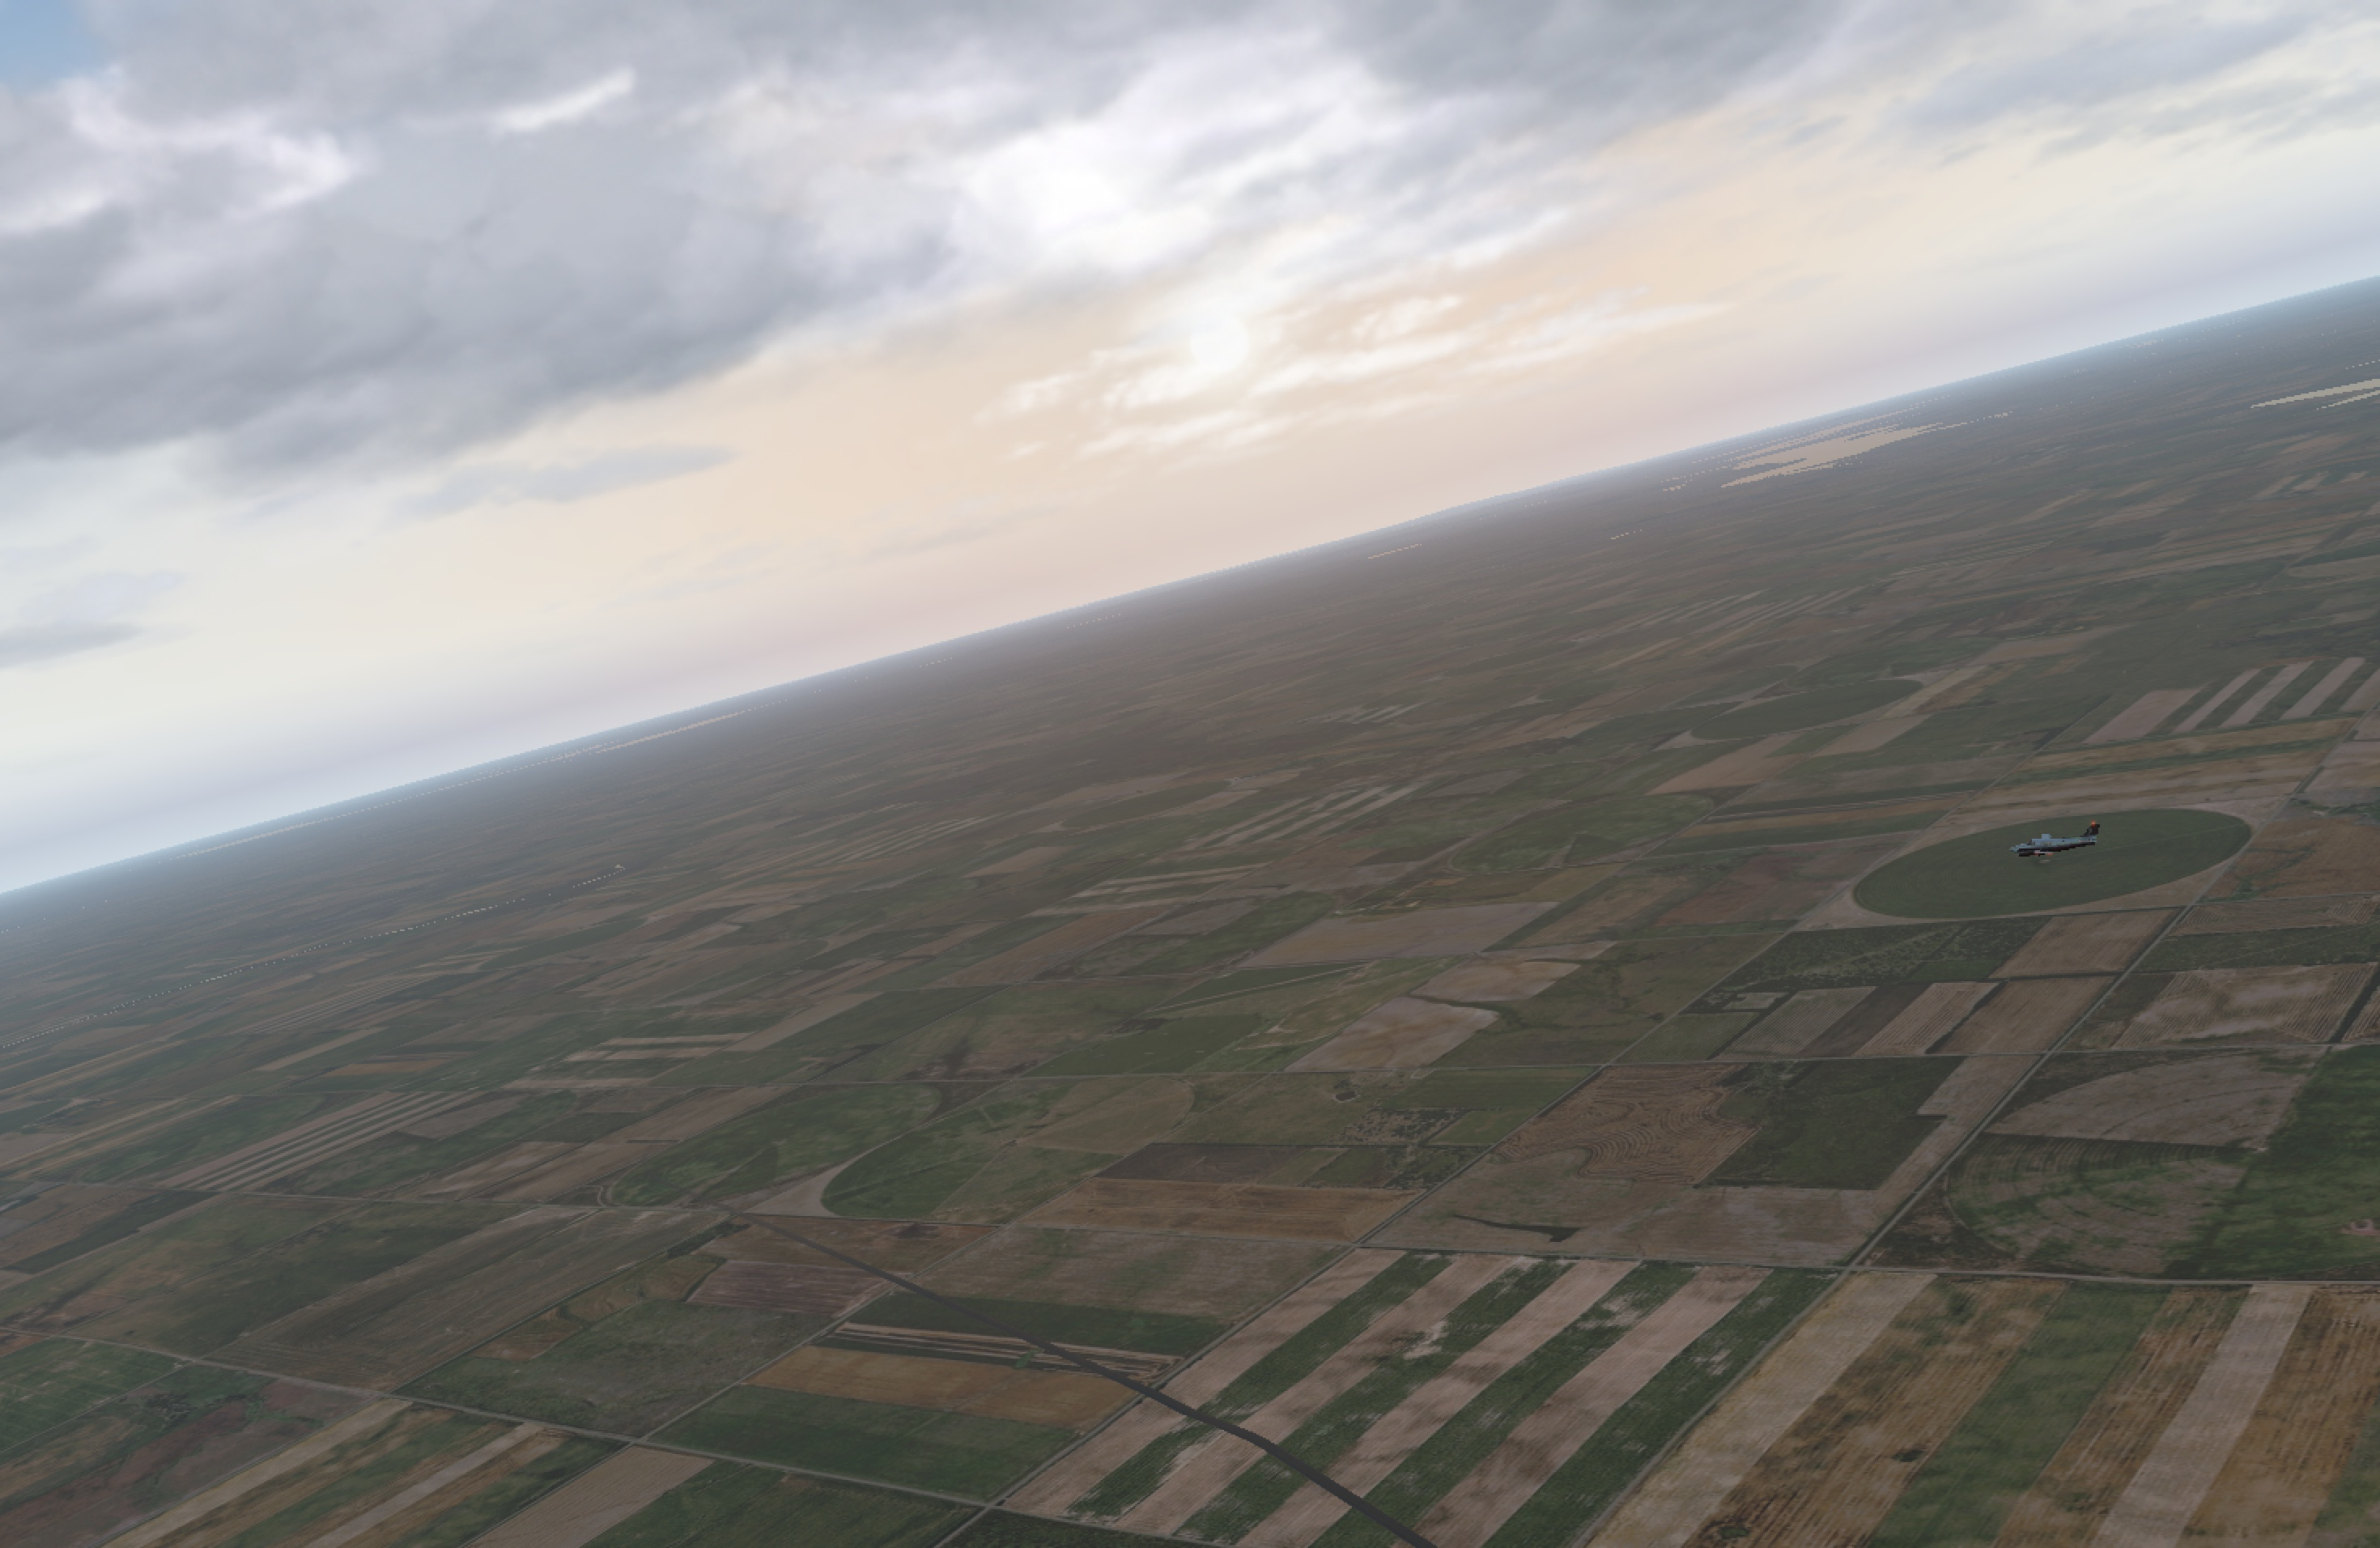aircraft: (1983, 830, 2097, 873)
